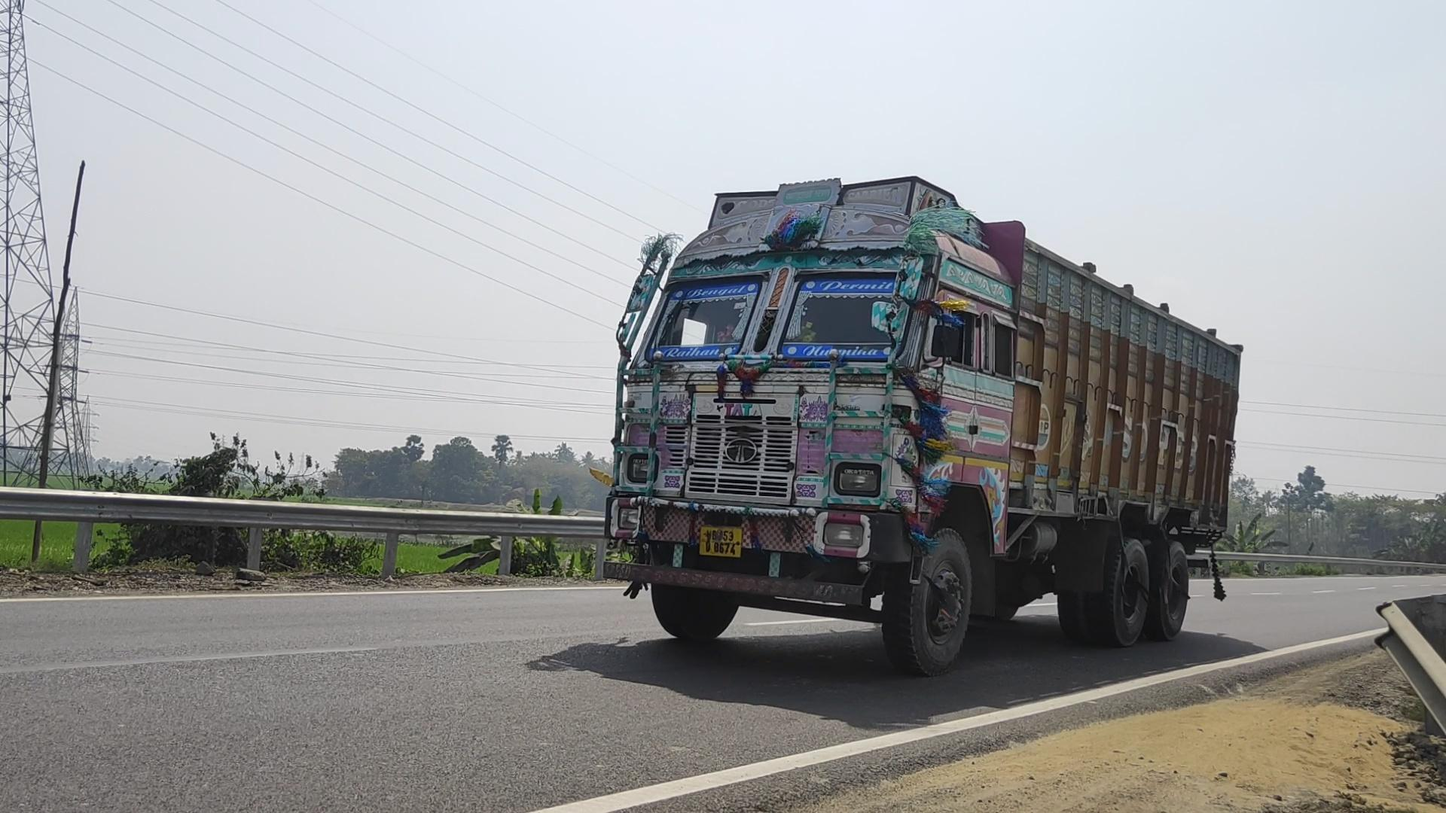truck: (602, 175, 1244, 677)
